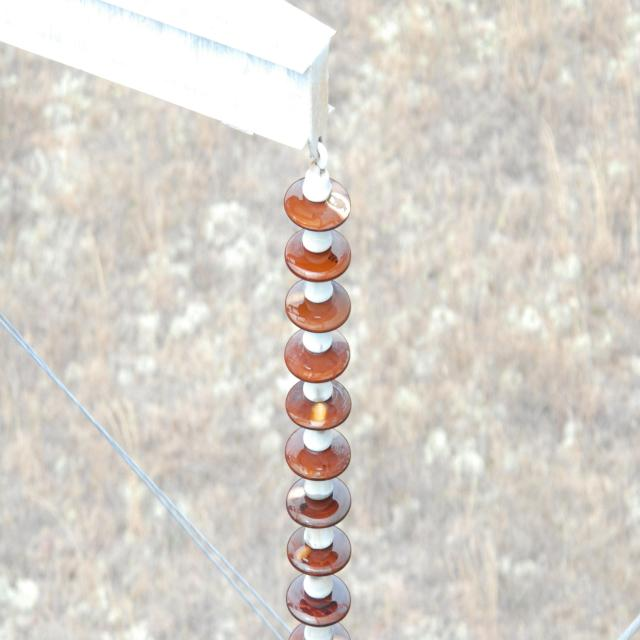insulator: (284, 175, 352, 640)
